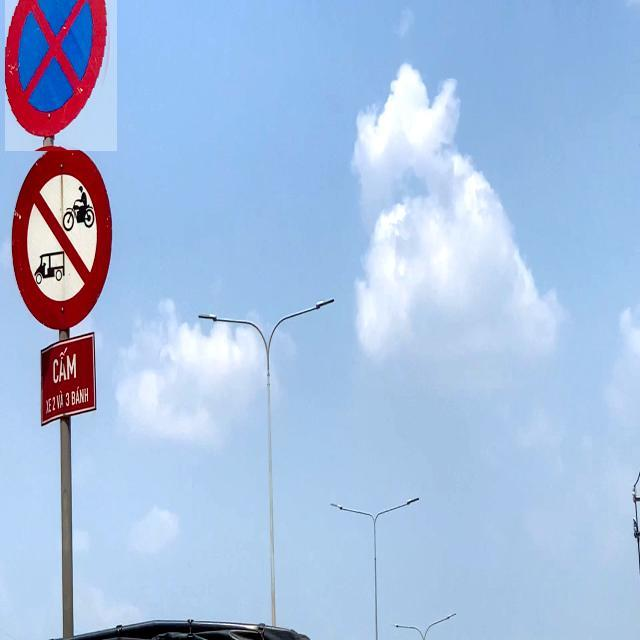P-130: (5, 0, 117, 151)
